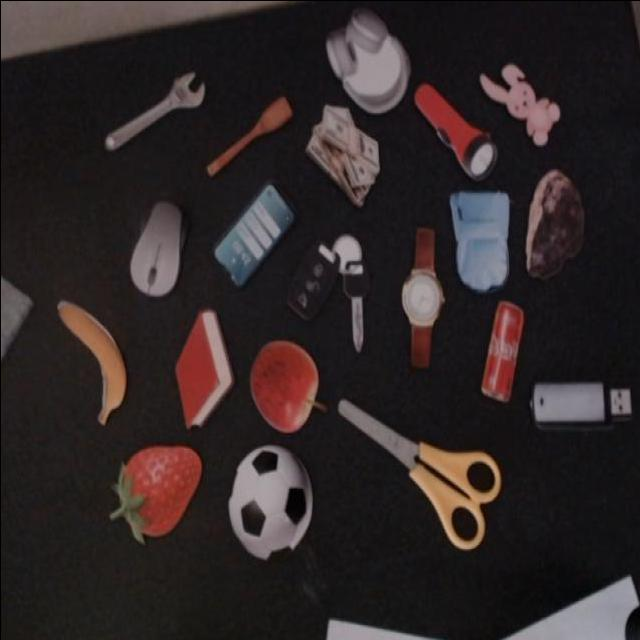Other Objects: (322, 354, 511, 558), (280, 211, 392, 352), (101, 62, 210, 171), (410, 63, 504, 188), (210, 177, 299, 292), (229, 445, 312, 558), (324, 5, 410, 113), (205, 90, 296, 188), (57, 300, 127, 423), (305, 104, 378, 206), (249, 340, 324, 430), (479, 62, 560, 145), (525, 168, 584, 277), (451, 190, 508, 291), (402, 227, 443, 367), (129, 201, 181, 295), (480, 300, 524, 401), (532, 382, 631, 422)
